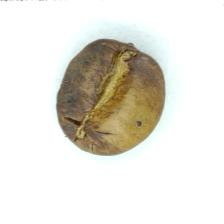NG: (58, 40, 134, 146)
